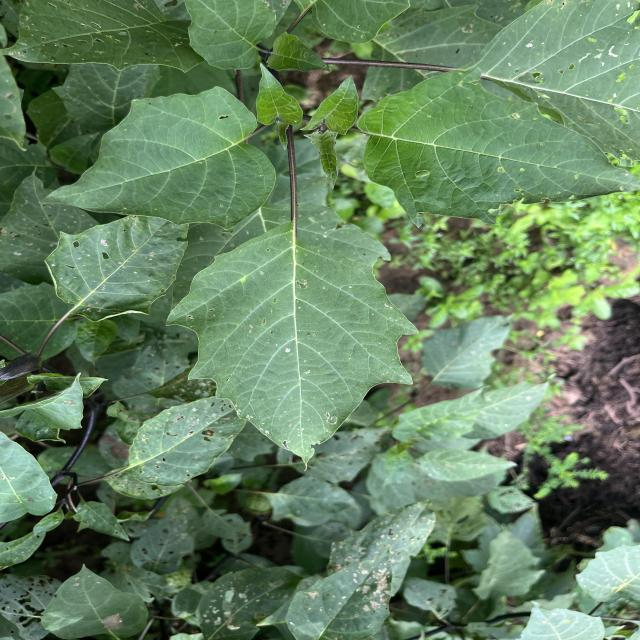Datura metal linn: (162, 214, 424, 478), (355, 62, 640, 234), (36, 83, 280, 235)
